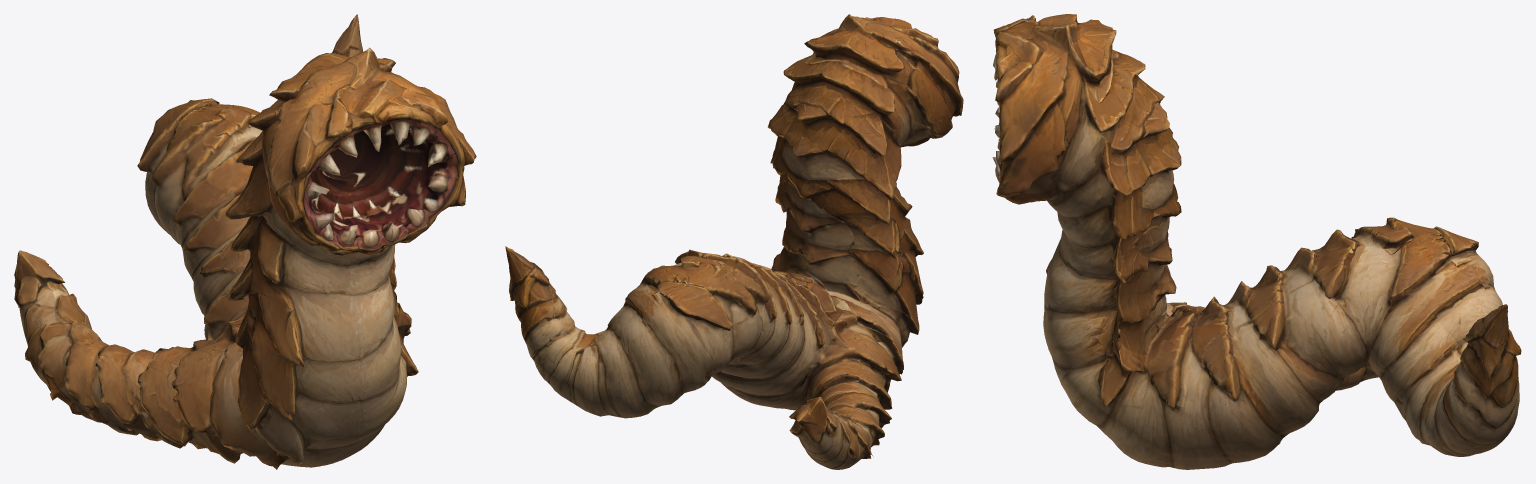
The model's file is DESERT_E02_SANDWORM.fbx.
3 renders of one model, left to right at view 1: azimuth 30°, elevation 25°; view 2: azimuth 150°, elevation 25°; view 3: azimuth 270°, elevation 25°, orthographic. The views are drawn at different scales.
Visible parts, largest first — view 1: texture_mapping; view 2: texture_mapping; view 3: texture_mapping.
Boxes of the visible parts, x1,y1,x2,y2 form: texture_mapping: (14, 14, 476, 469); texture_mapping: (505, 14, 963, 469); texture_mapping: (992, 14, 1521, 469).
Bounding box in the file's own units: 0.8146 × 0.9774 × 0.8927.
Materials: 1 (1 with a texture image).
